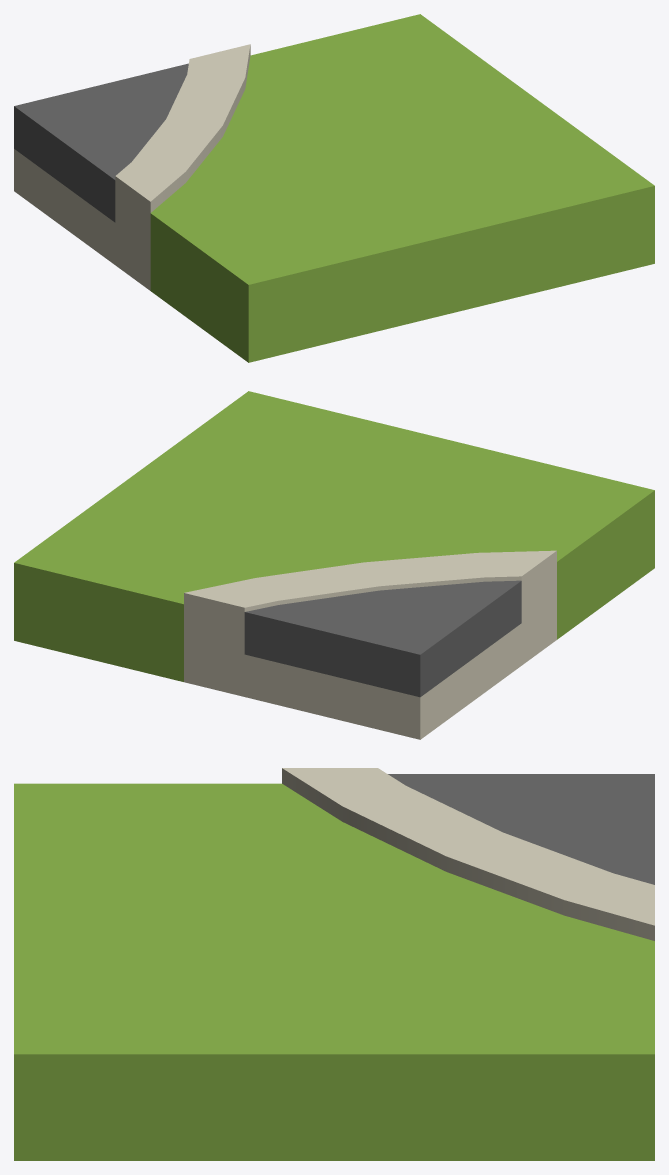
File: road-one-way-curve-sidewalk-grass-7.obj
3 views of the same model, one above another, from view 1: azimuth 30°, elevation 25°; view 2: azimuth 150°, elevation 25°; view 3: azimuth 270°, elevation 25° (orthographic). The views are drawn at different scales.
Visible parts, largest first — view 1: Mesh1_Group1_Model.051; view 2: Mesh1_Group1_Model.051; view 3: Mesh1_Group1_Model.051.
Part boxes in pixels (x1,y1,x2,y2): Mesh1_Group1_Model.051: (14, 14, 654, 362); Mesh1_Group1_Model.051: (14, 391, 654, 739); Mesh1_Group1_Model.051: (14, 768, 654, 1160).
Size of the model in its own units: 3 by 0.63 by 3.
